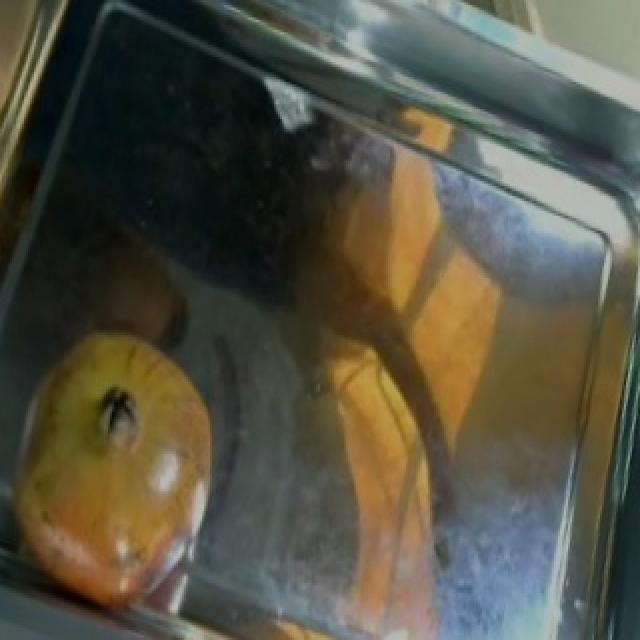fruit: (0, 295, 248, 563)
